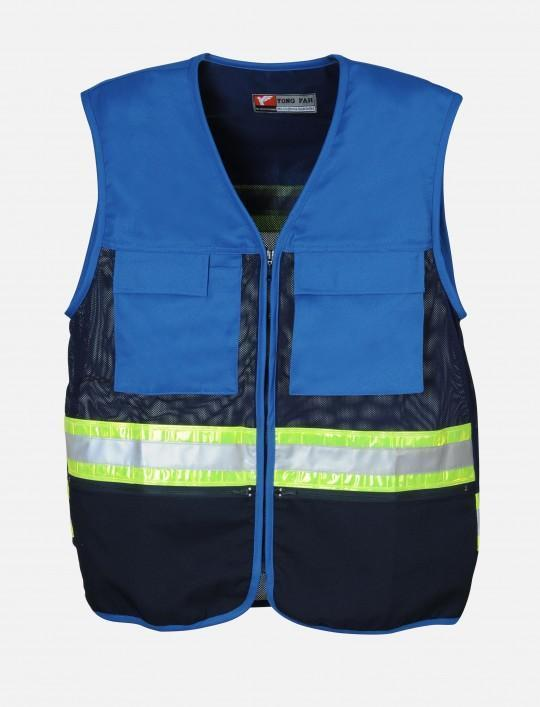vest: (67, 51, 480, 631)
